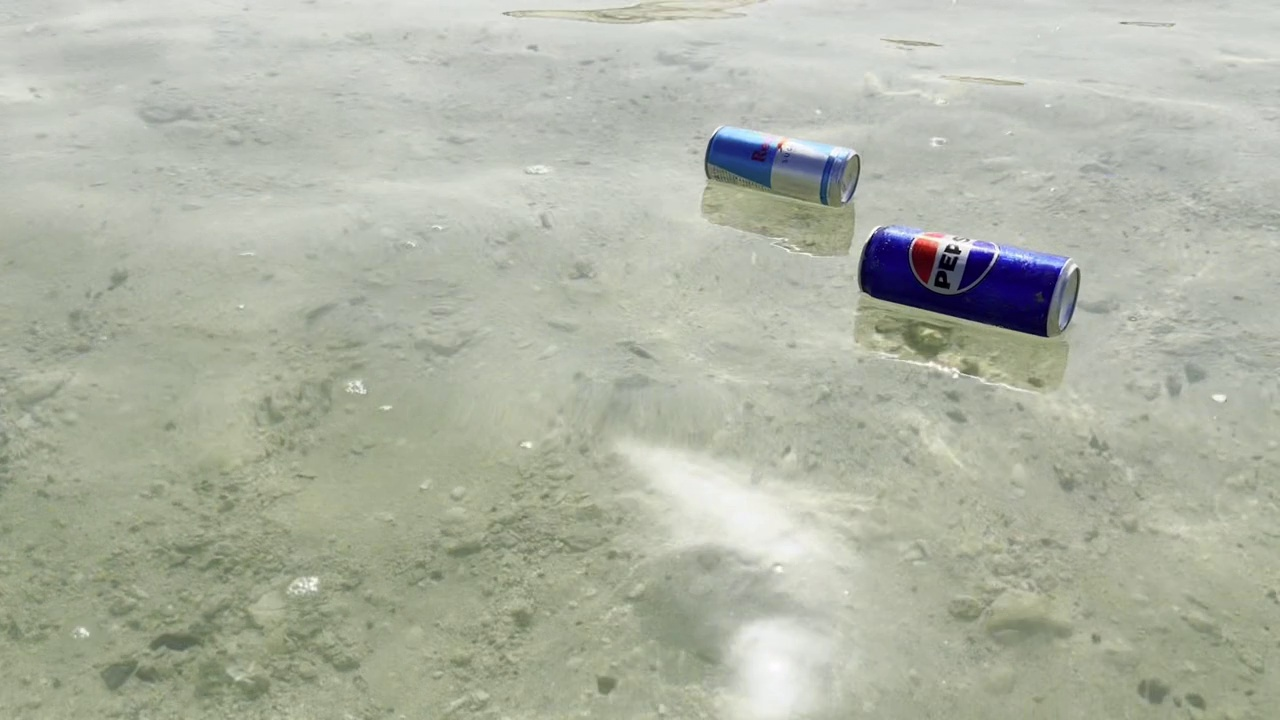debris: (851, 205, 1093, 343), (695, 115, 872, 214)
